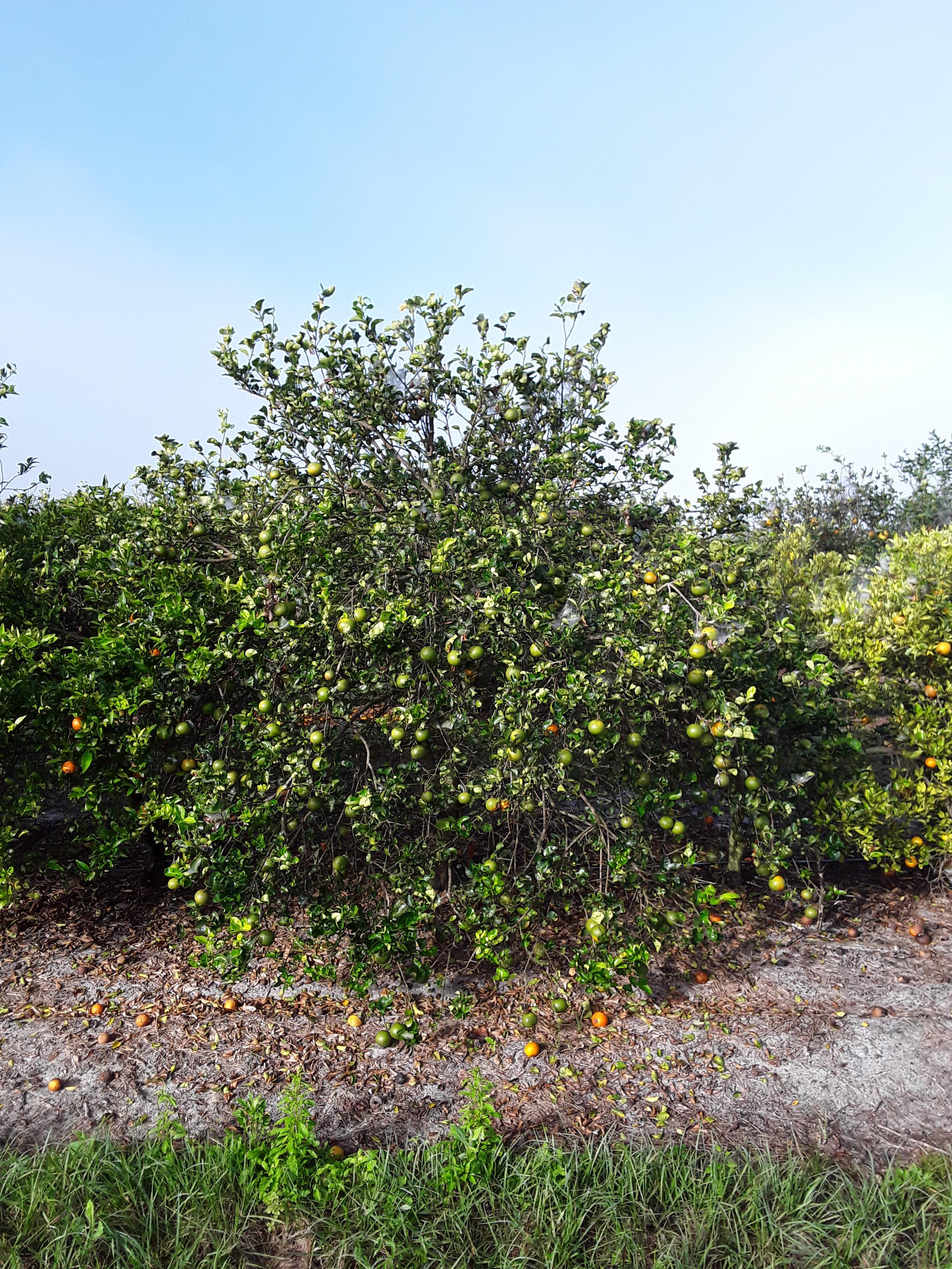fruit_on_ground: (584, 715, 610, 738), (416, 640, 438, 667), (684, 666, 711, 688), (504, 664, 529, 687), (681, 713, 702, 740), (710, 753, 737, 774), (332, 851, 352, 879), (587, 921, 610, 945), (278, 602, 301, 625), (368, 943, 393, 964), (409, 740, 429, 766), (690, 577, 712, 600), (255, 925, 277, 948), (272, 781, 294, 803), (713, 642, 737, 662), (551, 748, 575, 768), (128, 604, 149, 626), (282, 814, 303, 836), (370, 1029, 392, 1050), (309, 685, 332, 705), (504, 725, 527, 745), (627, 731, 646, 755), (260, 722, 285, 740), (173, 720, 194, 741), (505, 744, 526, 765), (710, 769, 731, 790), (686, 642, 706, 664), (550, 994, 569, 1017), (560, 447, 581, 467), (304, 794, 324, 815), (917, 752, 939, 771), (492, 456, 512, 476), (701, 624, 721, 644), (497, 891, 517, 911), (580, 915, 600, 935), (395, 668, 414, 689), (255, 696, 276, 715), (241, 911, 262, 930), (520, 1008, 539, 1029), (772, 869, 789, 892), (336, 615, 355, 635), (461, 668, 481, 687), (210, 708, 230, 727), (709, 719, 729, 738), (903, 854, 923, 873), (527, 645, 545, 666), (505, 704, 523, 725), (307, 727, 328, 745), (165, 545, 184, 564), (802, 904, 821, 923), (390, 1023, 409, 1042), (446, 473, 466, 491), (190, 520, 210, 538), (333, 678, 353, 696), (412, 724, 432, 742), (178, 753, 196, 773), (635, 770, 653, 790), (388, 724, 409, 741), (699, 731, 716, 752), (58, 756, 75, 777), (620, 812, 637, 833), (657, 812, 674, 833), (194, 890, 211, 911), (579, 521, 597, 540), (446, 648, 465, 666), (222, 767, 240, 786), (482, 858, 501, 876), (172, 517, 192, 534), (211, 757, 228, 777), (743, 771, 760, 791), (344, 801, 364, 818), (165, 875, 185, 892), (352, 604, 370, 622), (469, 645, 487, 663), (474, 487, 491, 506), (256, 528, 275, 545), (906, 832, 925, 849), (505, 482, 525, 498), (421, 785, 437, 805), (70, 713, 85, 734), (543, 722, 560, 740), (491, 478, 510, 494), (551, 505, 567, 524), (149, 542, 168, 558), (255, 545, 274, 561), (642, 567, 658, 586), (271, 599, 287, 618), (428, 488, 448, 503), (935, 643, 950, 663), (534, 484, 548, 505), (310, 754, 327, 771), (503, 407, 519, 425), (722, 570, 738, 588), (145, 645, 163, 661), (320, 667, 338, 683), (926, 685, 942, 703), (670, 821, 686, 839), (547, 484, 562, 503), (535, 510, 550, 529), (586, 541, 606, 555), (267, 468, 284, 484), (344, 475, 361, 491), (621, 524, 638, 540), (200, 699, 217, 715), (796, 886, 813, 902), (306, 458, 321, 476), (456, 790, 472, 806), (483, 604, 500, 619), (710, 517, 728, 531), (461, 592, 477, 606), (892, 613, 908, 627), (938, 604, 952, 619), (930, 584, 945, 597), (878, 528, 891, 542), (849, 516, 862, 528), (764, 517, 778, 528), (866, 528, 878, 540), (808, 516, 820, 527), (771, 505, 781, 517), (833, 527, 843, 537)
fruit_on_tree: (912, 928, 939, 953), (592, 1004, 612, 1031), (329, 1145, 350, 1169), (219, 992, 238, 1016), (906, 918, 927, 939), (869, 1003, 891, 1023), (523, 1035, 539, 1058), (97, 1028, 114, 1048), (47, 1078, 64, 1096), (844, 925, 861, 942), (88, 1000, 103, 1019), (135, 1008, 150, 1027), (697, 967, 712, 984)
